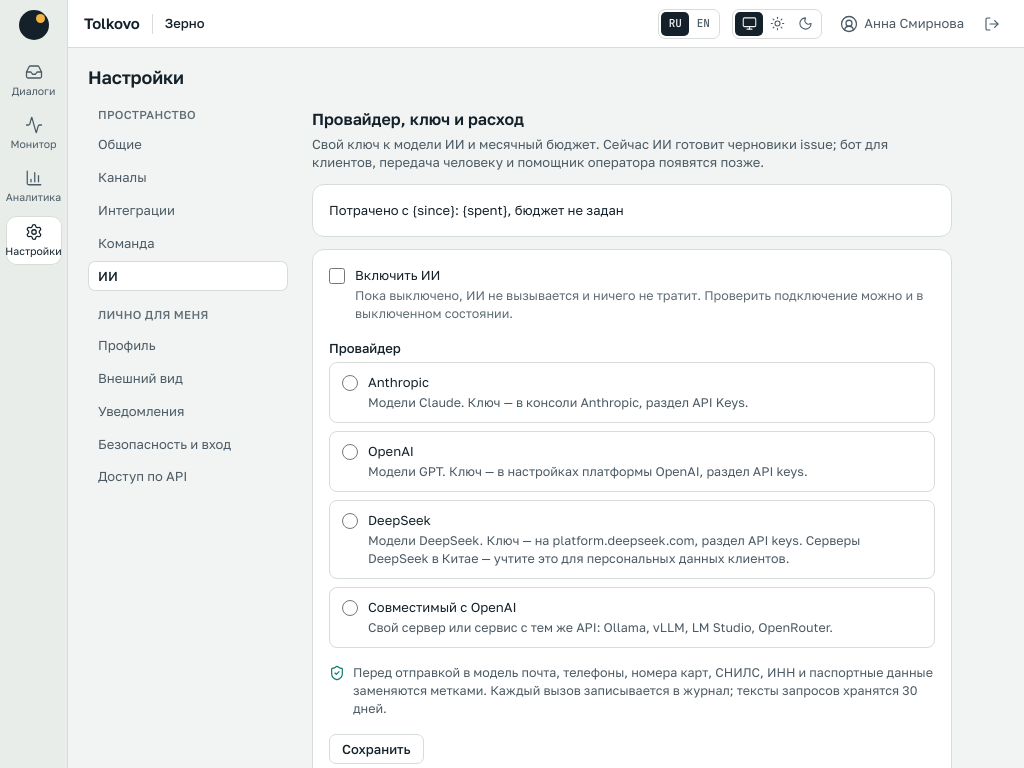
Test case: AI settings › sets up DeepSeek with a key and its list prices, and says where its servers are
Click the radio button labelled "DeepSeek" at coordinates (350, 521), box [342,513,358,529]
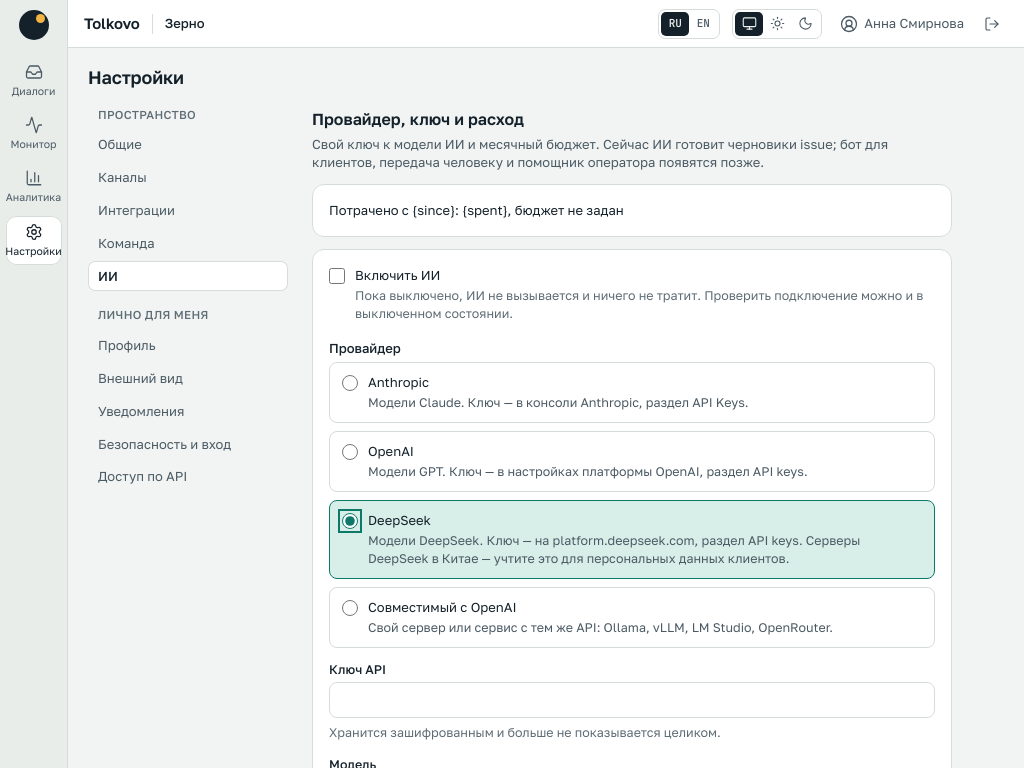
Type "sk-0123456789abcdef" into the password field labelled "Ключ API" at coordinates (632, 700), box [329,682,935,718]
(page scrolled)
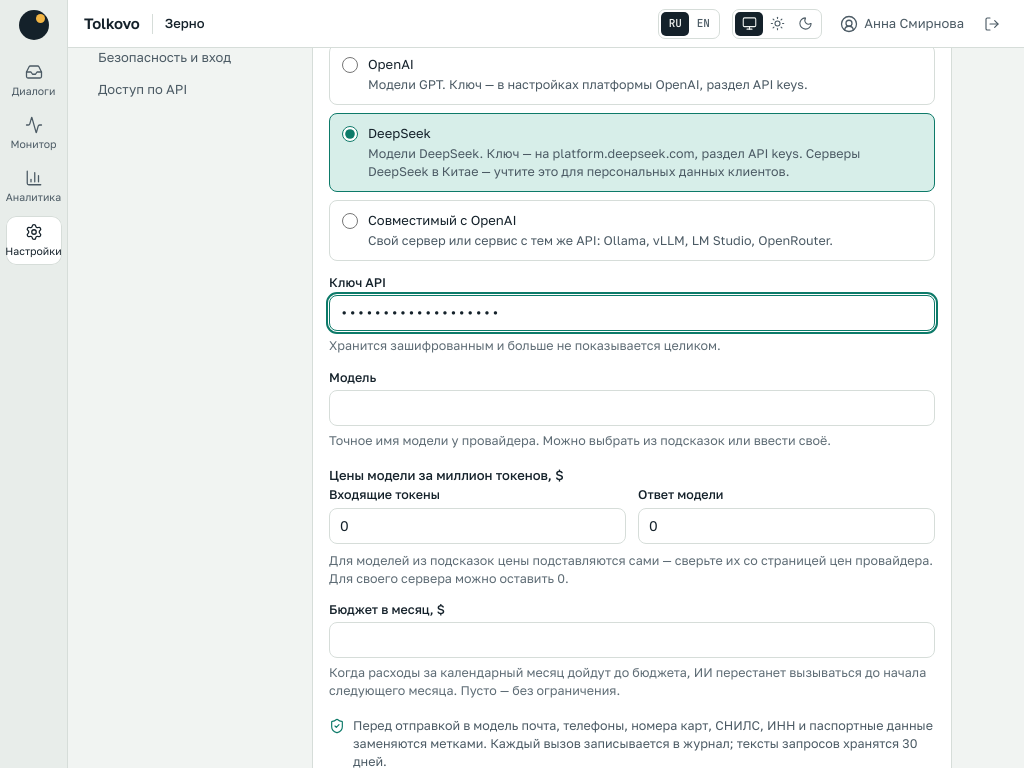
Type "deepseek-chat" into the field labelled "Модель" at coordinates (632, 408), box [329,390,935,426]
(page scrolled)
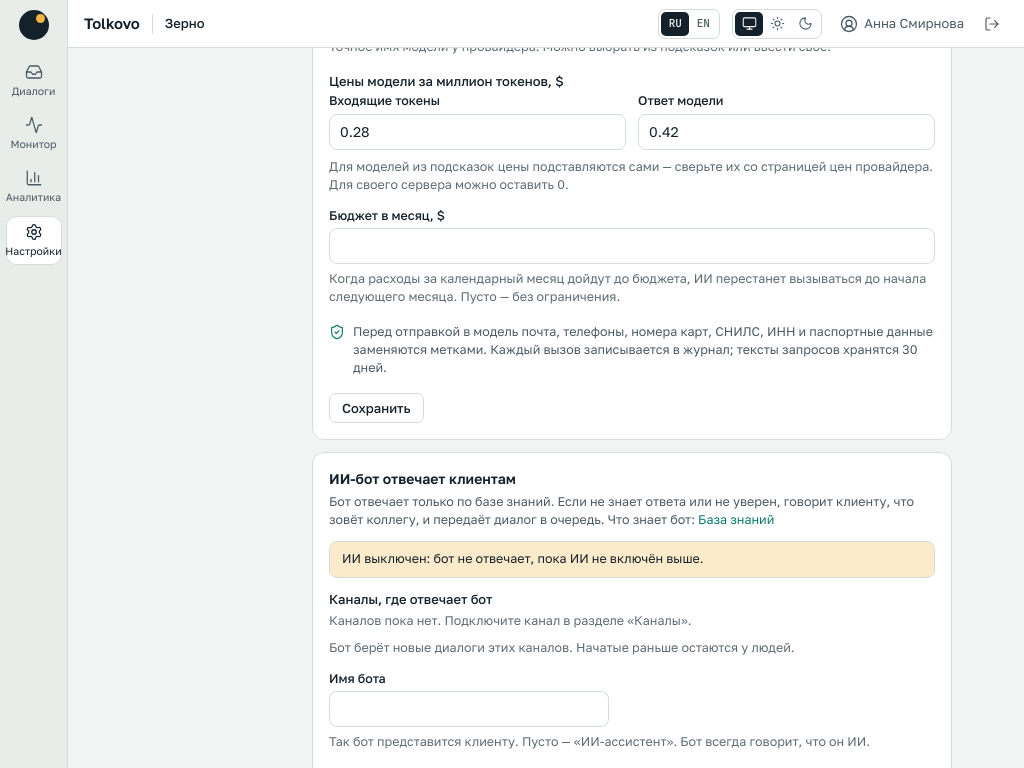
Expected: the field labelled "Входящие токены" holds "0.28", [329,114,626,150]
Expected: the field labelled "Ответ модели" holds "0.42", [638,114,935,150]
Click the button "Сохранить" at coordinates (376, 408), box [329,393,424,423]
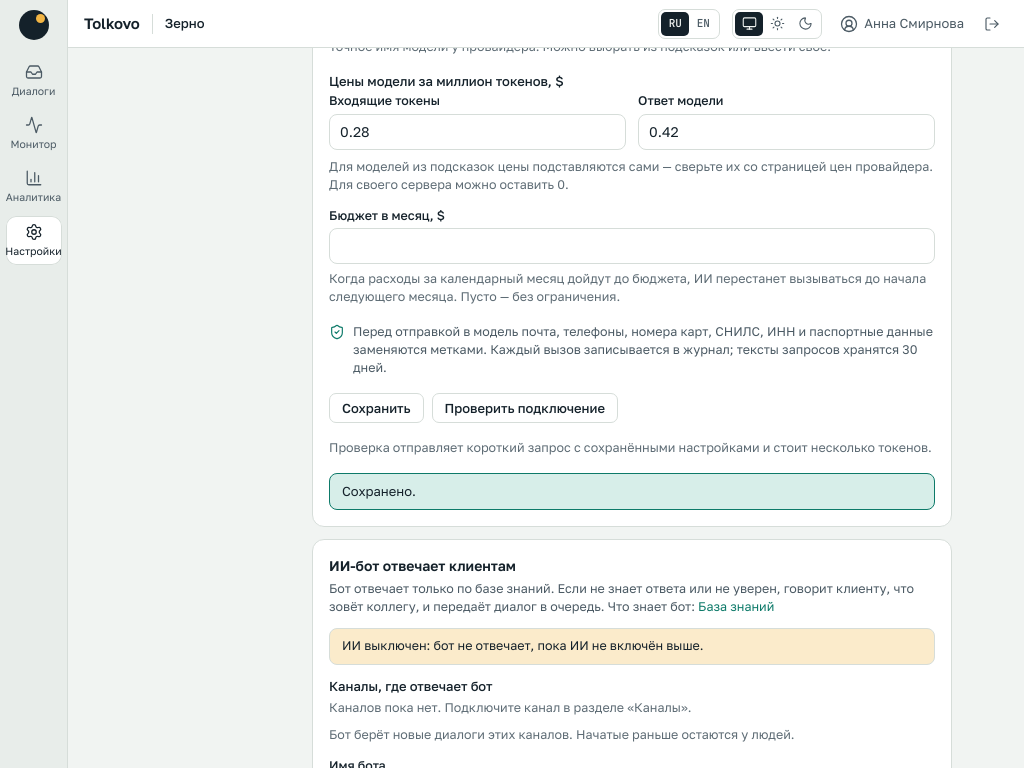
Expected: the text "Сохранено." is shown, [329,473,935,510]
